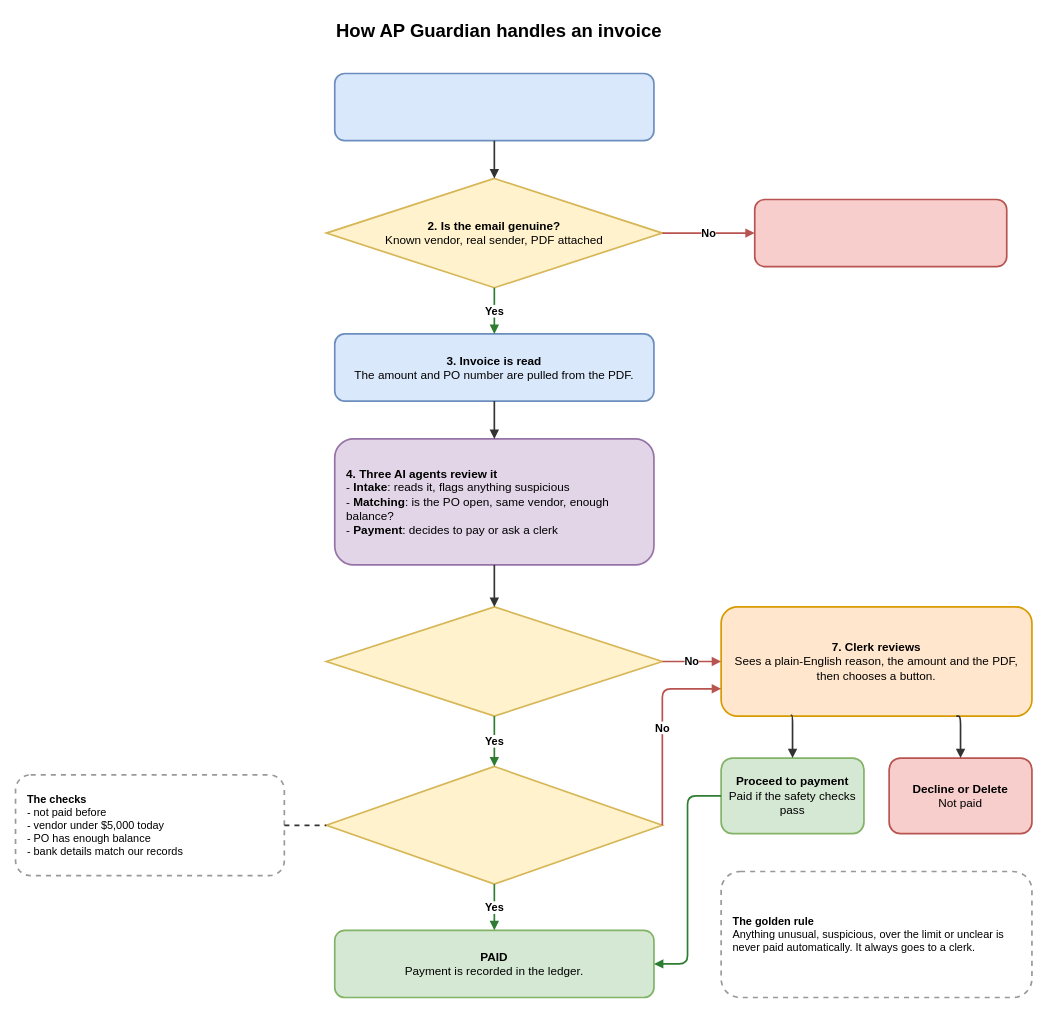
Image size: 1047x1012. Some labels were removed from this diagram. Here are the shapes that lost their labels. From the top down, the centre of each, then its label:
(x=493, y=106): 1. Invoice arrives A vendor emails a PDF invoice to the AP inbox.
(x=880, y=232): Quarantined Never reaches the AI. Nothing is paid.
(x=494, y=661): 5. All clear and $2,000 or less?
(x=494, y=825): 6. Final safety checks pass? (strict rules in code, not AI)
